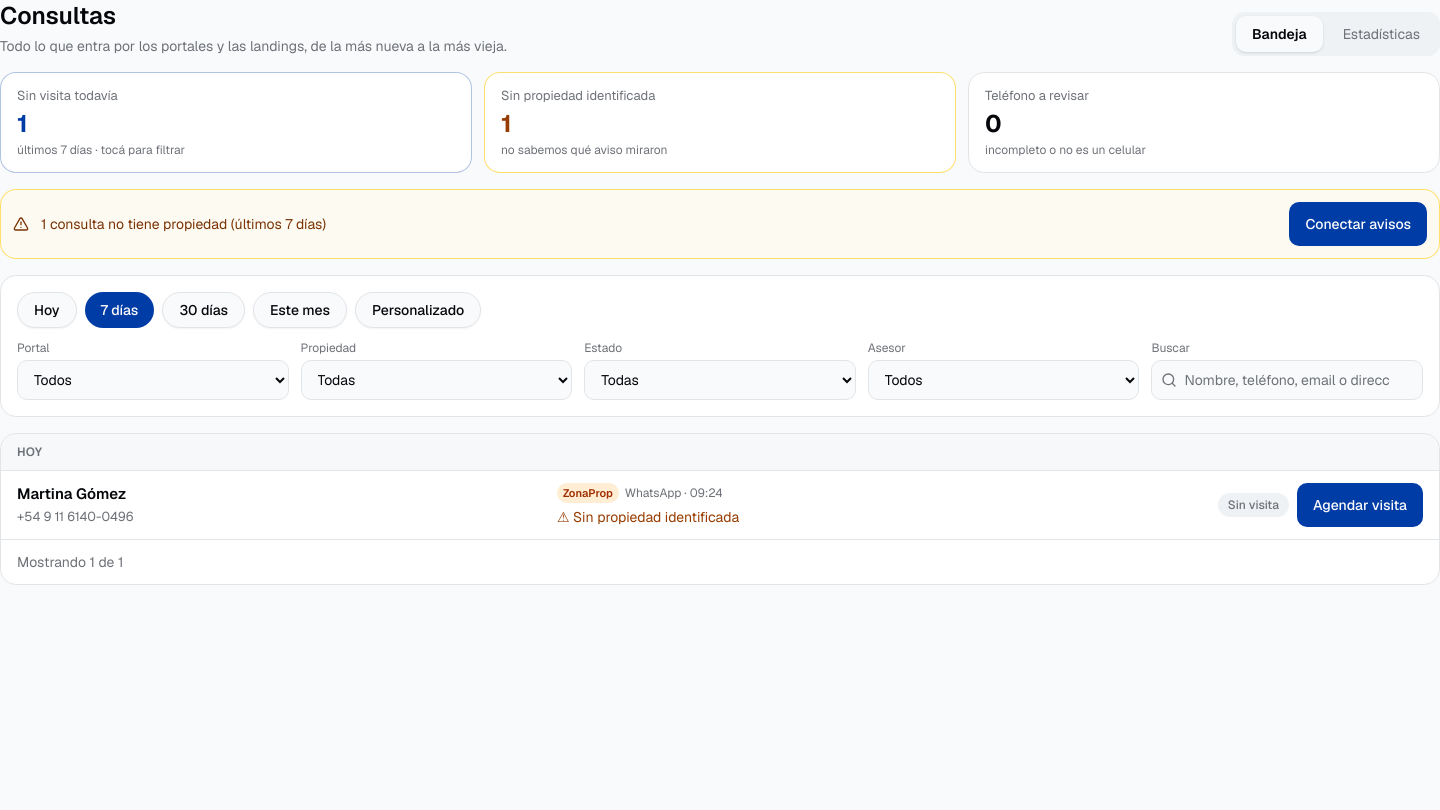
/consultas — bandeja › una consulta sin propiedad abre primero "¿Qué propiedad quiere ver?", no la ventana
This screenshot has width=1440, height=810.
Click the button "Agendar visita": (1360, 505) x1=1297 y1=483 x2=1423 y2=527
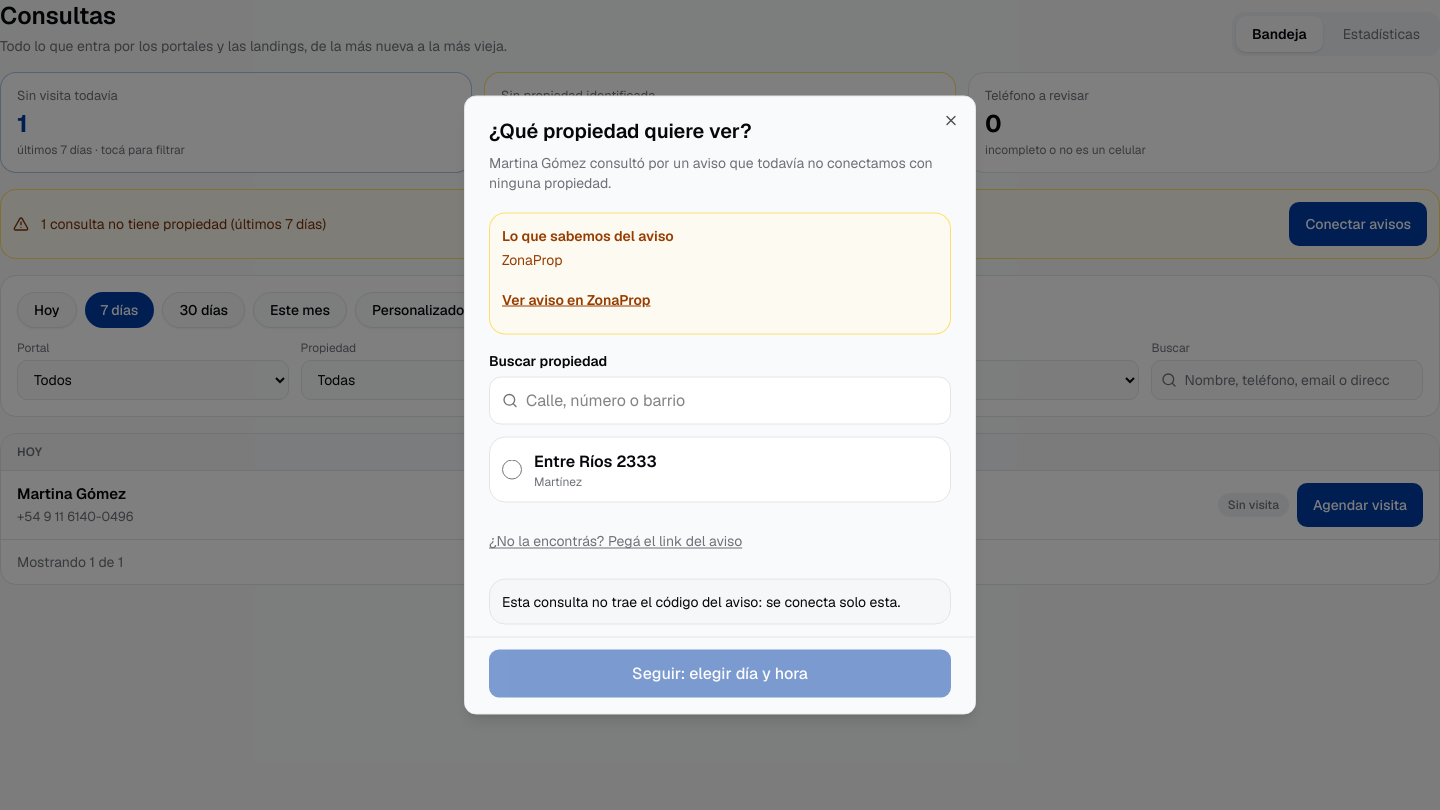
Expected: the heading "¿Qué propiedad quiere ver?" is shown, x1=489 y1=118 x2=752 y2=144
Expected: the button "Seguir: elegir día y hora" is disabled, x1=489 y1=650 x2=951 y2=698
